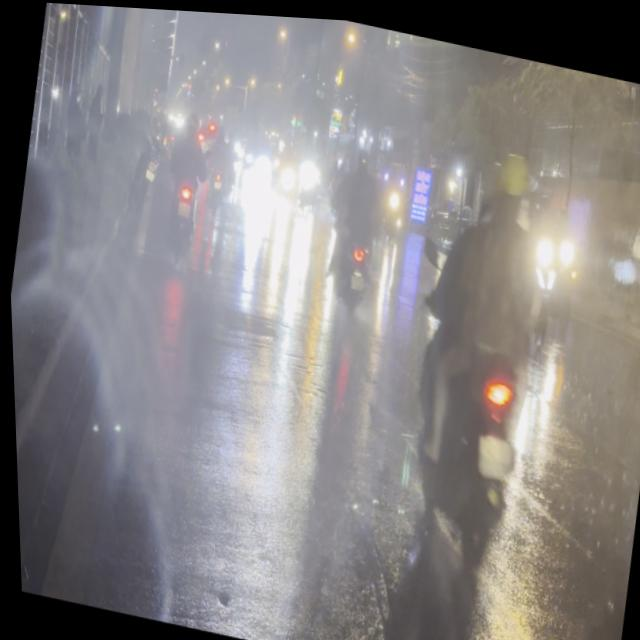helmet: (481, 140, 535, 219)
licenseplate: (360, 122, 583, 640)
nohelmet: (471, 427, 516, 476)
